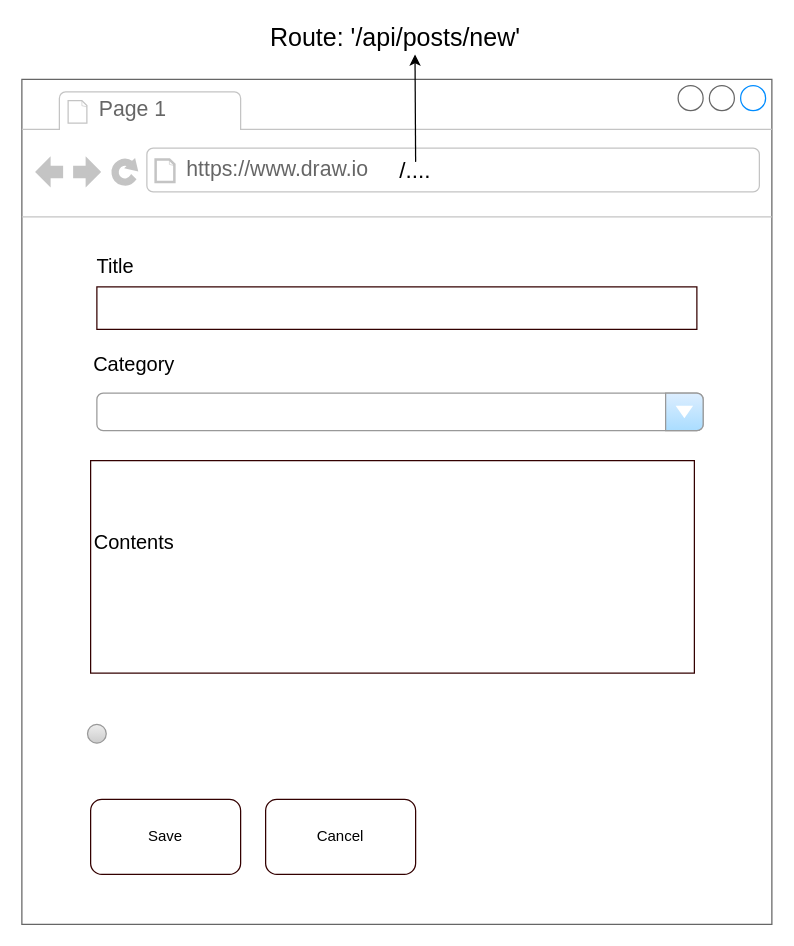
This 794x946 diagram has some shape labels left out. Each missing label, with the centre of its shape:
"fun stuff" belongs at (x=399, y=411).
"Has References" belongs at (x=96, y=733).
